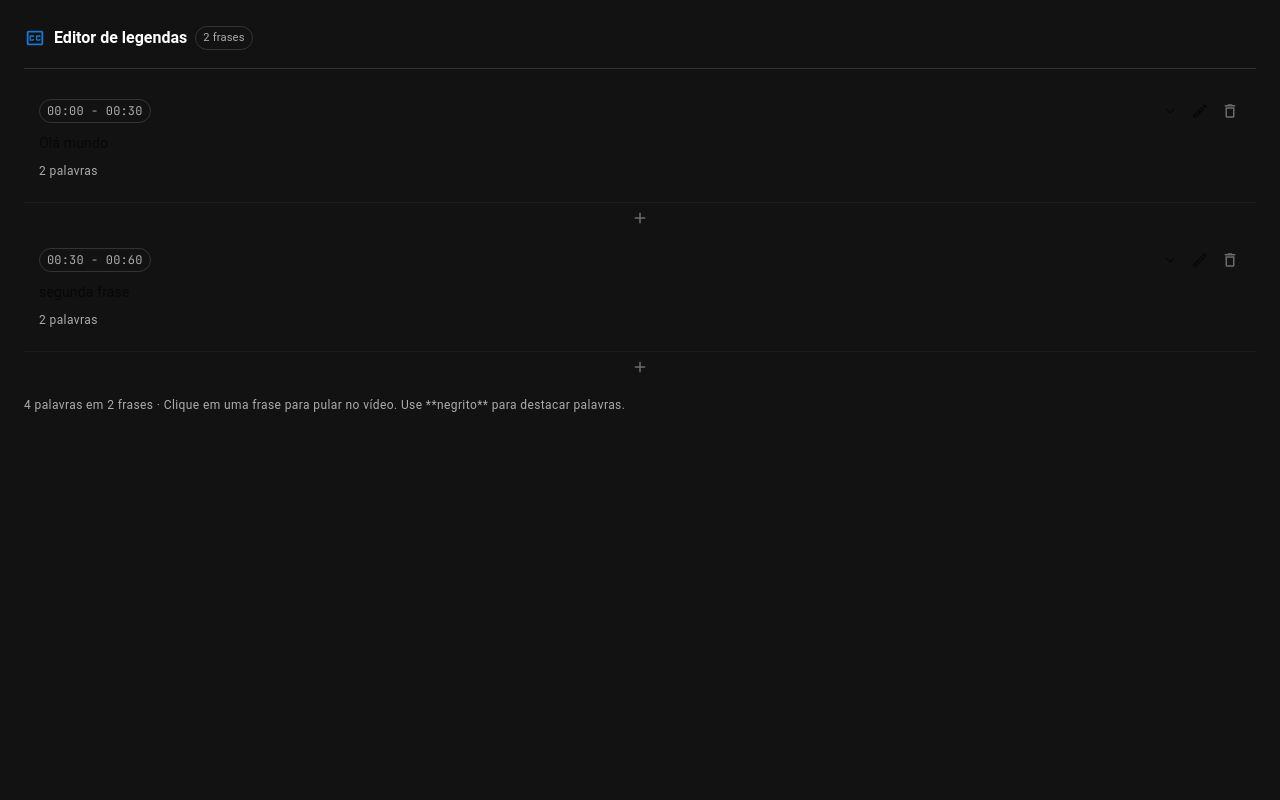
Test: CaptionEditorPanel › exclusão de frase › exibe snackbar de undo após deletar frase
The image size is (1280, 800).
Click the 1st button named "Apagar frase" at (1230,111), box [1216,97,1244,125]
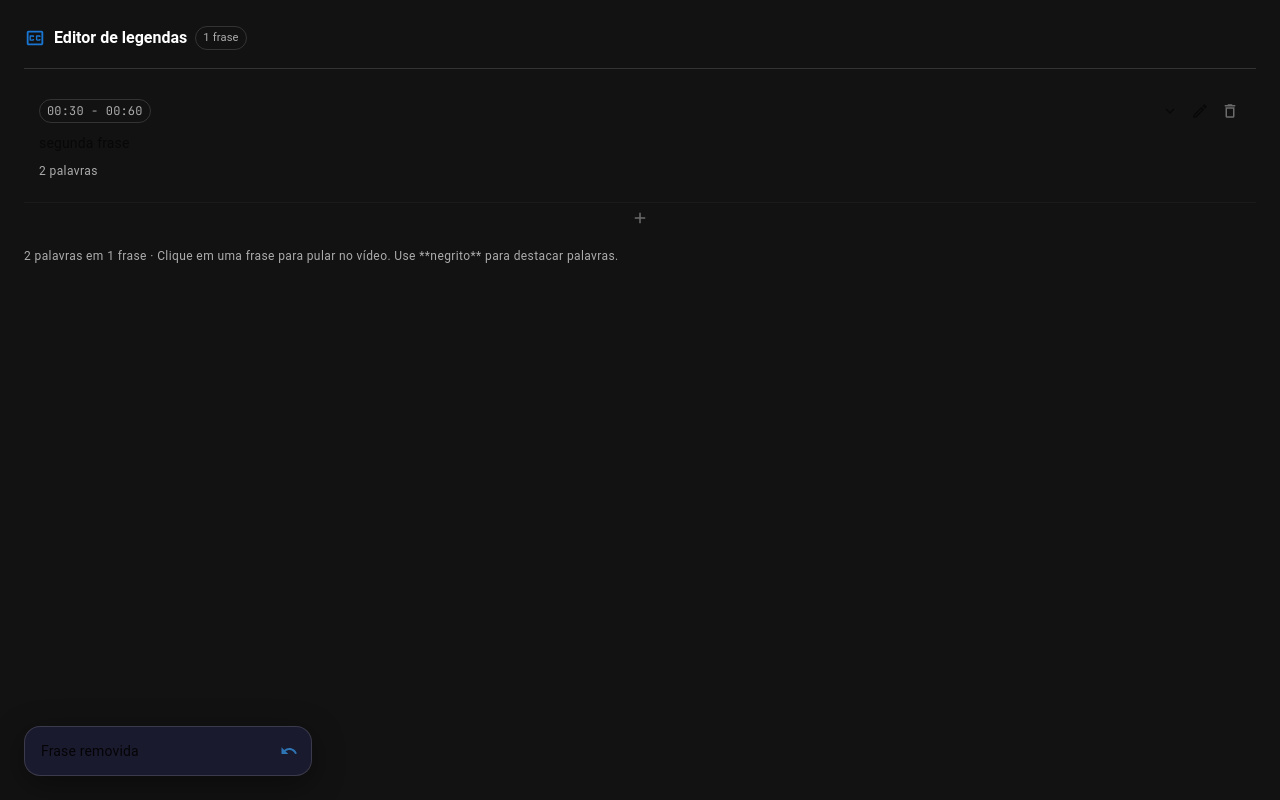
Now the text "Frase removida" is shown, box [41,743,139,759]
